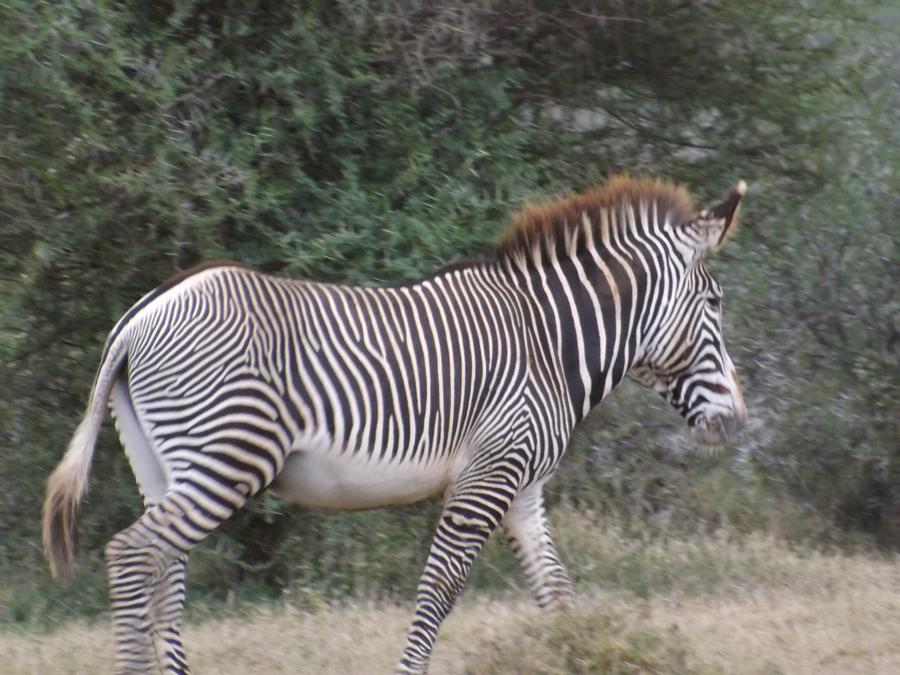zebra_grevys: (95, 256, 562, 483)
